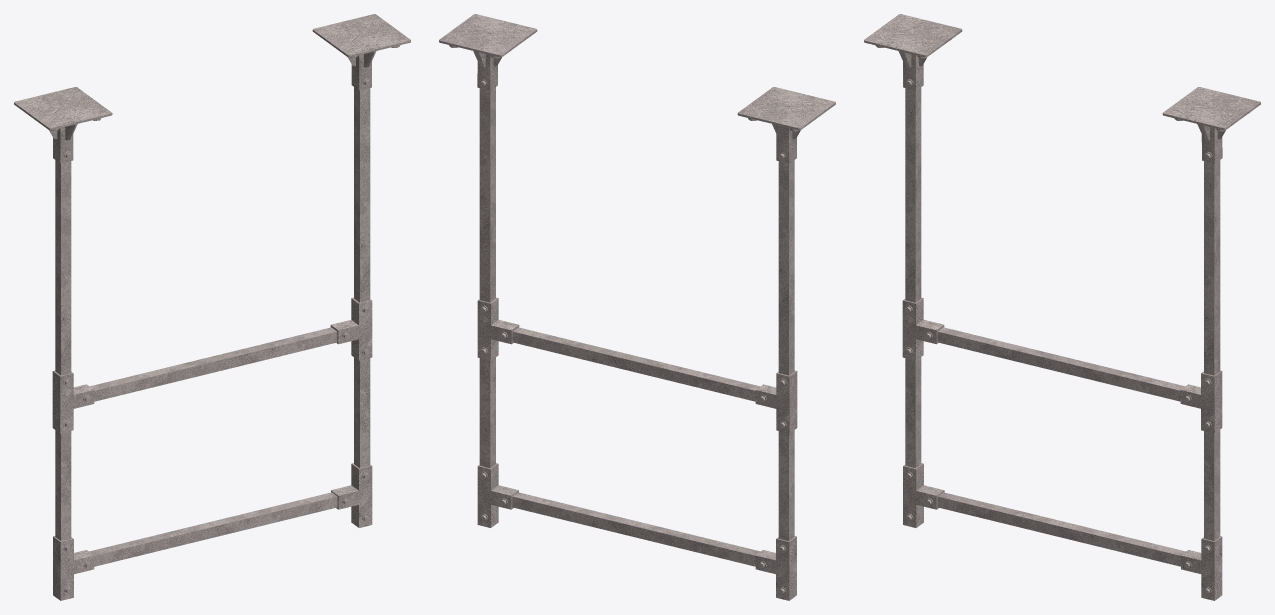
File: SM_Square_Ducting_02c.glb
The picture shows the model from 3 angles, left to right: view 1: azimuth 30°, elevation 25°; view 2: azimuth 150°, elevation 25°; view 3: azimuth 330°, elevation 25°; orthographic projection.
Parts seen in each view (by area): view 1: SM_Square_Ducting_02c; view 2: SM_Square_Ducting_02c; view 3: SM_Square_Ducting_02c.
Boxes of the visible parts, bbox=[...] form: SM_Square_Ducting_02c: bbox=[14, 14, 410, 600]; SM_Square_Ducting_02c: bbox=[439, 14, 835, 600]; SM_Square_Ducting_02c: bbox=[864, 14, 1260, 600].
Size of the model in its own units: 1 by 1.3 by 0.1751.
Materials: 1 (1 with a texture image).
